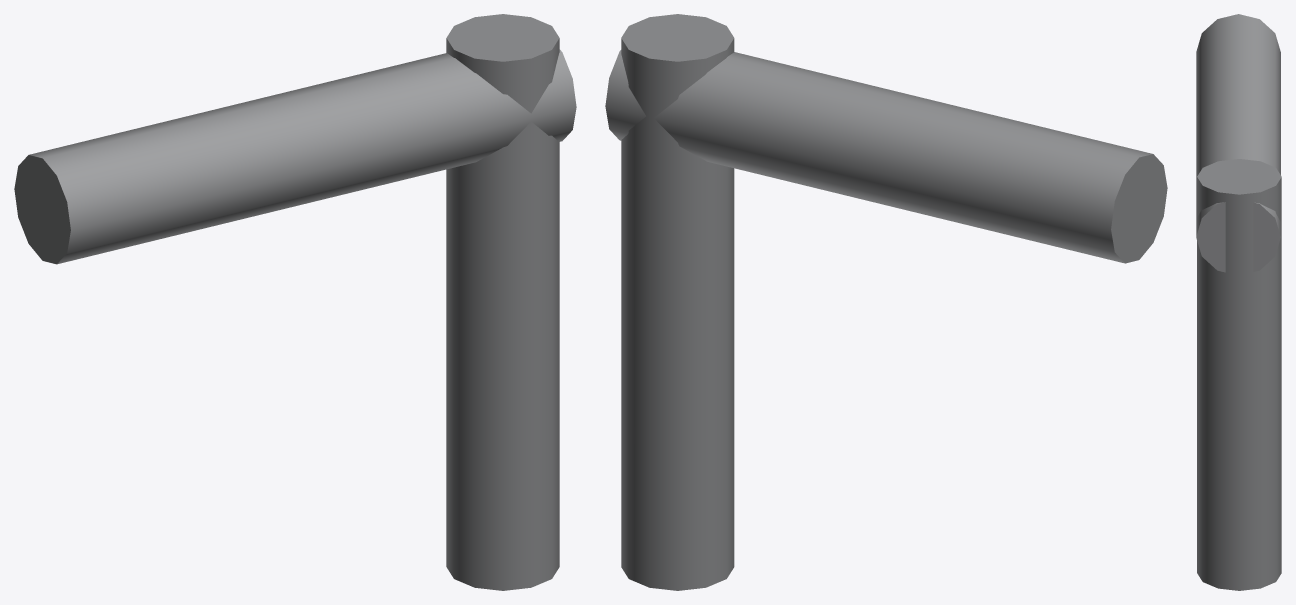
3 views of the same model, side by side, from view 1: azimuth 30°, elevation 25°; view 2: azimuth 150°, elevation 25°; view 3: azimuth 270°, elevation 25° (orthographic). The views are drawn at different scales.
Bounding box in the file's own units: 1.01 × 1 × 0.196.
